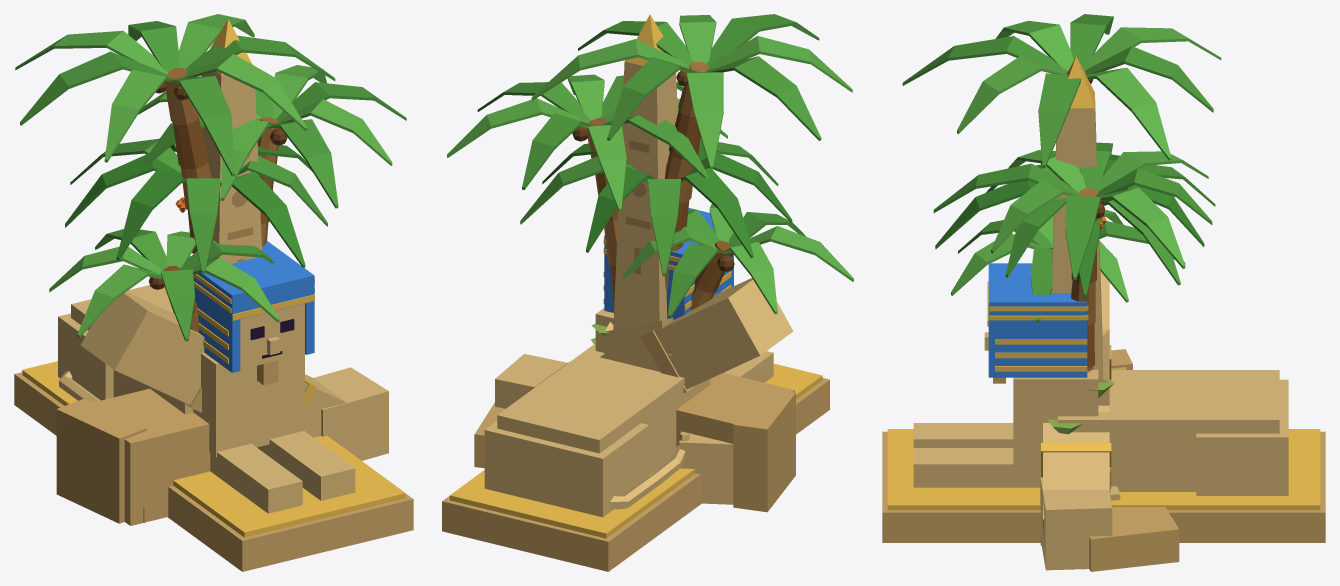
The model's file is w4_decorations.fbx.
The picture shows the model from 3 angles, left to right: view 1: azimuth 30°, elevation 25°; view 2: azimuth 150°, elevation 25°; view 3: azimuth 270°, elevation 25°; orthographic projection. The views are drawn at different scales.
Parts seen in each view (by area): view 1: Sphinx.Stone, Sphinx.Plinth, PalmTwin.FrondsLight, PillarLeaning.Stone, Sphinx.Gold, PillarLeaning.Band, PalmTall.FrondsLight, PalmTall.Fronds, PalmTwin.Fronds, PillarDrums.Band, Sphinx.Headdress, DatePalm.Fronds (+8 smaller); view 2: Sphinx.Stone, Sphinx.Plinth, PalmTwin.FrondsLight, PillarLeaning.Stone, Obelisk.Stone, PalmTwin.Fronds, PalmTall.FrondsLight, PalmTall.Fronds, PillarDrums.Band, Sphinx.Gold, DatePalm.Fronds, PillarStump.Stone (+12 smaller); view 3: Sphinx.Stone, Sphinx.Gold, Sphinx.Plinth, PalmTwin.FrondsLight, PalmTwin.Fronds, PalmTall.FrondsLight, PalmTall.Fronds, Sphinx.Headdress, PillarDrums.Stone, PillarStump.Band, Obelisk.Stone, PillarLeaning.Stone (+6 smaller).
Part boxes in pixels (x1=…): Sphinx.Stone: x1=58, y1=285, x2=355, y2=513; Sphinx.Plinth: x1=14, y1=360, x2=413, y2=571; PalmTwin.FrondsLight: x1=49, y1=65, x2=392, y2=337; PillarLeaning.Stone: x1=81, y1=292, x2=372, y2=446; Sphinx.Gold: x1=22, y1=274, x2=405, y2=537; PillarLeaning.Band: x1=93, y1=387, x2=210, y2=525; PalmTall.FrondsLight: x1=15, y1=14, x2=307, y2=162; PalmTall.Fronds: x1=20, y1=21, x2=335, y2=176; PalmTwin.Fronds: x1=95, y1=82, x2=406, y2=341; PillarDrums.Band: x1=56, y1=399, x2=146, y2=523; Sphinx.Headdress: x1=188, y1=241, x2=314, y2=372; DatePalm.Fronds: x1=65, y1=142, x2=312, y2=267; Sphinx.Stone: x1=484, y1=308, x2=773, y2=517; Sphinx.Plinth: x1=442, y1=378, x2=829, y2=571; PalmTwin.FrondsLight: x1=447, y1=74, x2=853, y2=314; PillarLeaning.Stone: x1=528, y1=278, x2=793, y2=391; Obelisk.Stone: x1=613, y1=61, x2=677, y2=329; PalmTwin.Fronds: x1=477, y1=75, x2=806, y2=318; PalmTall.FrondsLight: x1=531, y1=15, x2=852, y2=169; PalmTall.Fronds: x1=578, y1=14, x2=821, y2=140; PillarDrums.Band: x1=733, y1=388, x2=795, y2=512; Sphinx.Gold: x1=449, y1=239, x2=822, y2=538; DatePalm.Fronds: x1=542, y1=137, x2=792, y2=257; PillarStump.Stone: x1=604, y1=317, x2=733, y2=504; Sphinx.Stone: x1=913, y1=332, x2=1288, y2=495; Sphinx.Gold: x1=887, y1=281, x2=1320, y2=510; Sphinx.Plinth: x1=882, y1=377, x2=1325, y2=542; PalmTwin.FrondsLight: x1=951, y1=150, x2=1208, y2=302; PalmTwin.Fronds: x1=933, y1=142, x2=1212, y2=322; PalmTall.FrondsLight: x1=957, y1=20, x2=1221, y2=160; PalmTall.Fronds: x1=902, y1=14, x2=1213, y2=167; Sphinx.Headdress: x1=988, y1=263, x2=1087, y2=377; PillarDrums.Stone: x1=1040, y1=477, x2=1112, y2=570; PillarStump.Band: x1=1089, y1=507, x2=1179, y2=571; Obelisk.Stone: x1=1052, y1=101, x2=1102, y2=378; PillarLeaning.Stone: x1=1043, y1=271, x2=1109, y2=535.
Bounding box in the file's own units: 22.42 × 27.05 × 24.
